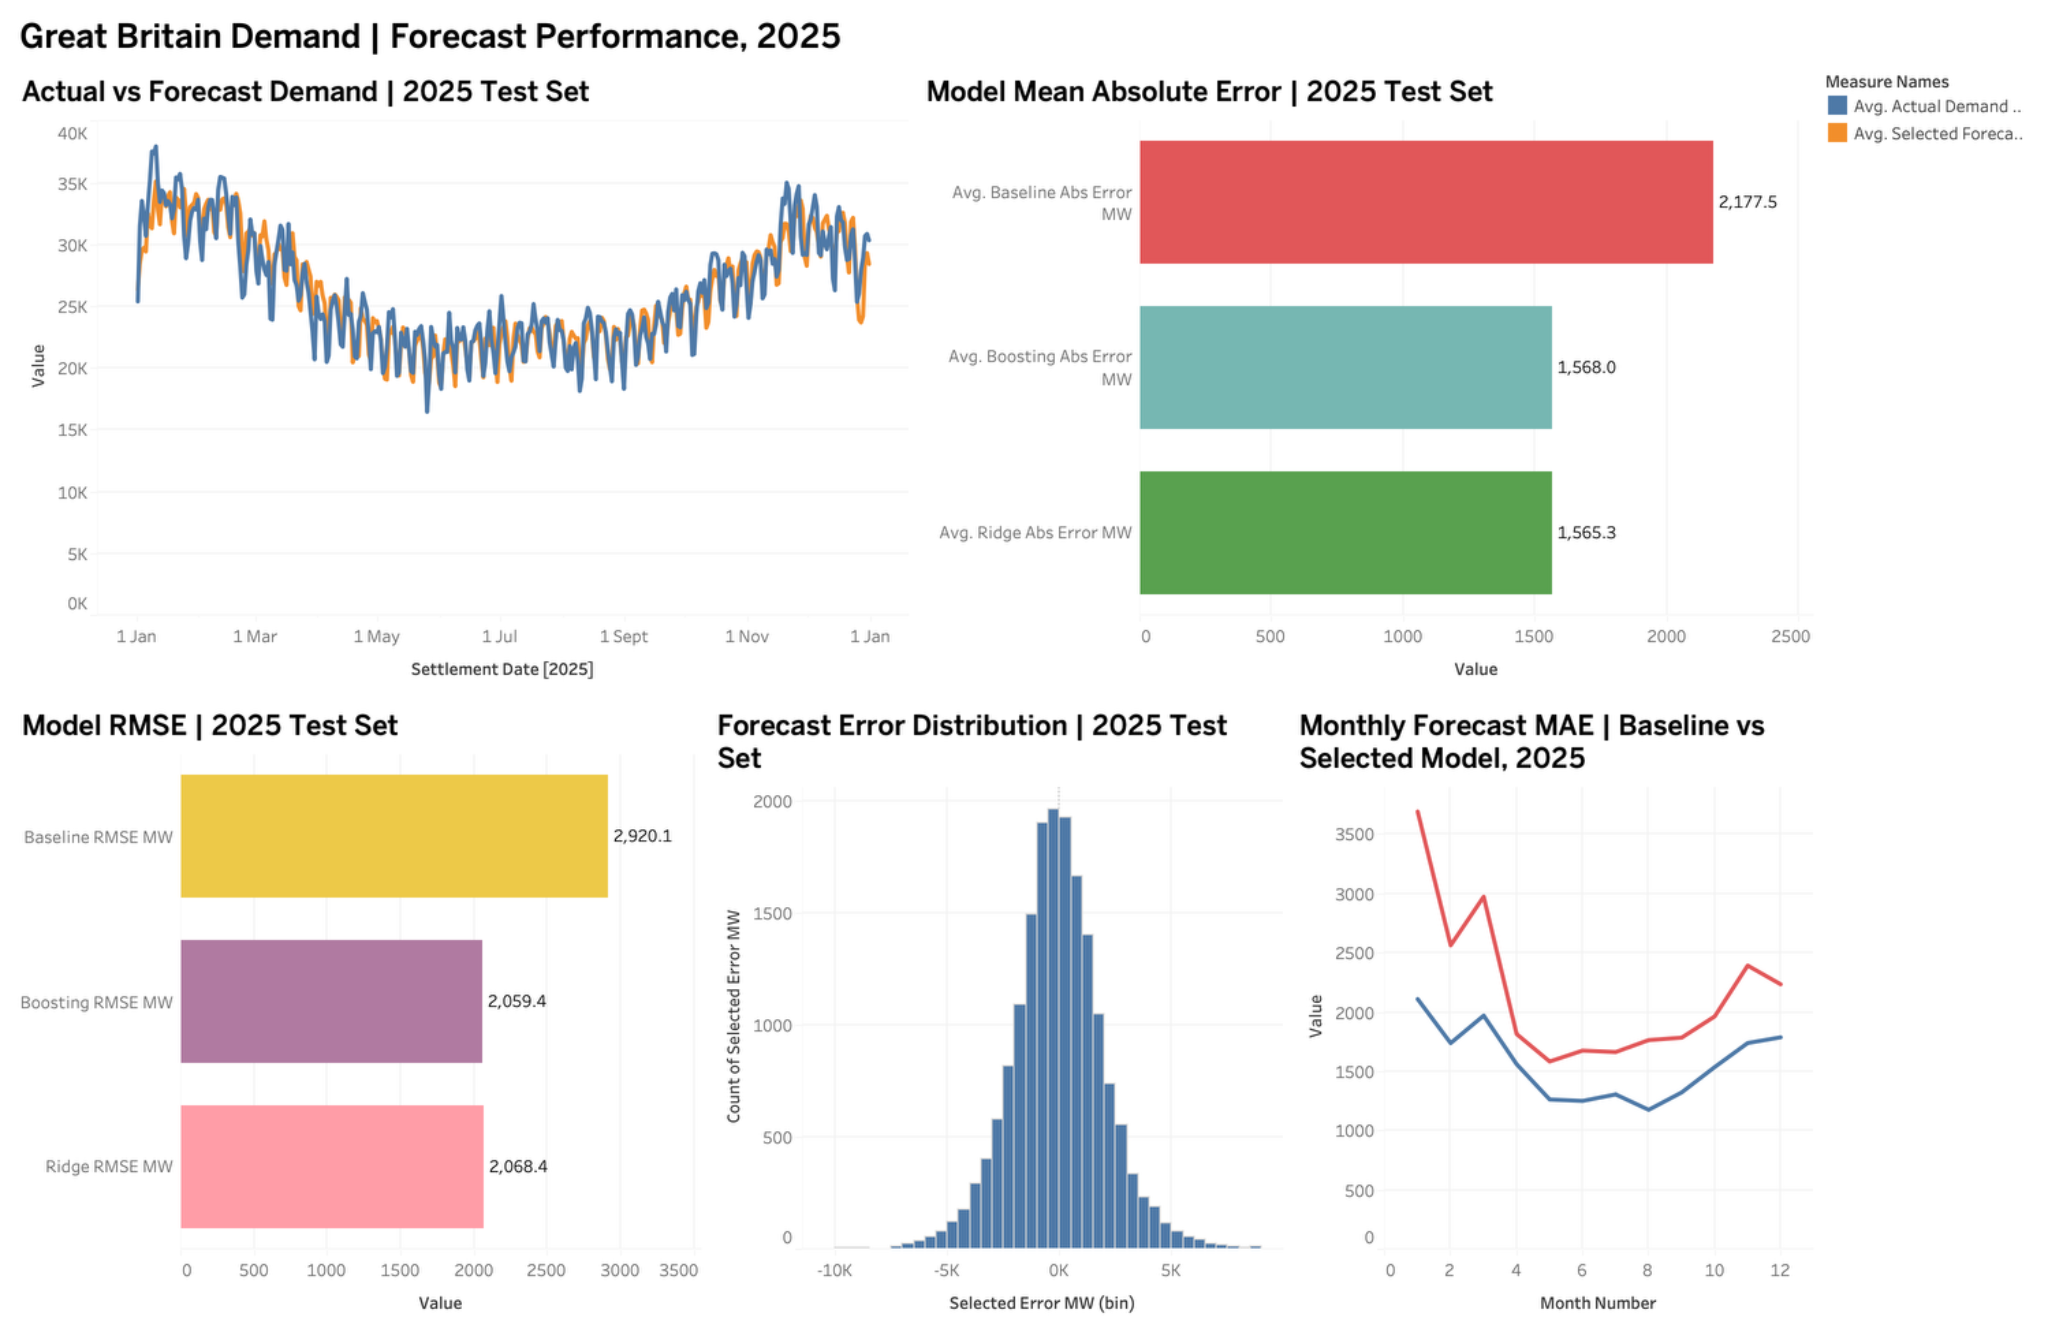

What the dashboard file says about the page in this screenshot:
{"tool":"tableau","page":{"name":"Dashboard 2","canvas":[1000,1000],"units":"permille","ordinal":1},"visuals":[{"type":"title","box":[5.3,8.2,989.3,37.7]},{"type":"worksheet","title":"05_Actual_vs_Forecast","mark":"Line","cols":["SettlementDate"],"box":[5.3,45.9,441.3,473]},{"type":"worksheet","title":"06_Model_MAE","mark":"Automatic","box":[446.6,45.9,441.3,473]},{"type":"legend","title":"05_Actual_vs_Forecast","param":"[federated.105qbgy0u6fvoz1f01g780d50o2a].[:Measure Names]","box":[887.9,45.9,106.7,67.3]},{"type":"worksheet","title":"07_Model_RMSE","mark":"Automatic","box":[5.3,518.9,339.6,473]},{"type":"worksheet","title":"08_Forecast_Error_Distribution","mark":"Automatic","rows":["SelectedErrorMW"],"cols":["Selected Error MW (bin)"],"box":[344.9,518.9,284.2,473]},{"type":"worksheet","title":"09_Monthly_MAE","mark":"Automatic","cols":["MonthNumber"],"box":[629.1,518.9,258.8,473]}]}

Visuals, with their boxes on the dashboard's canvas, which has no fixed pixel size, in thousandths of its width and height (x1, y1, x2, y2). These are canvas units, not pixel positions in the 2047x1340 screenshot, which may show the page scaled, cropped or inside an application window:
title: x1=5, y1=8, x2=995, y2=46
"05_Actual_vs_Forecast" worksheet (Line marks): x1=5, y1=46, x2=447, y2=519
"06_Model_MAE" worksheet: x1=447, y1=46, x2=888, y2=519
"05_Actual_vs_Forecast" legend: x1=888, y1=46, x2=995, y2=113
"07_Model_RMSE" worksheet: x1=5, y1=519, x2=345, y2=992
"08_Forecast_Error_Distribution" worksheet: x1=345, y1=519, x2=629, y2=992
"09_Monthly_MAE" worksheet: x1=629, y1=519, x2=888, y2=992
